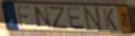E: (66, 7, 87, 31)
F: (16, 5, 32, 29)
K: (102, 8, 119, 32)
N: (83, 6, 104, 33), (32, 5, 53, 30)
Z: (48, 5, 70, 30)
